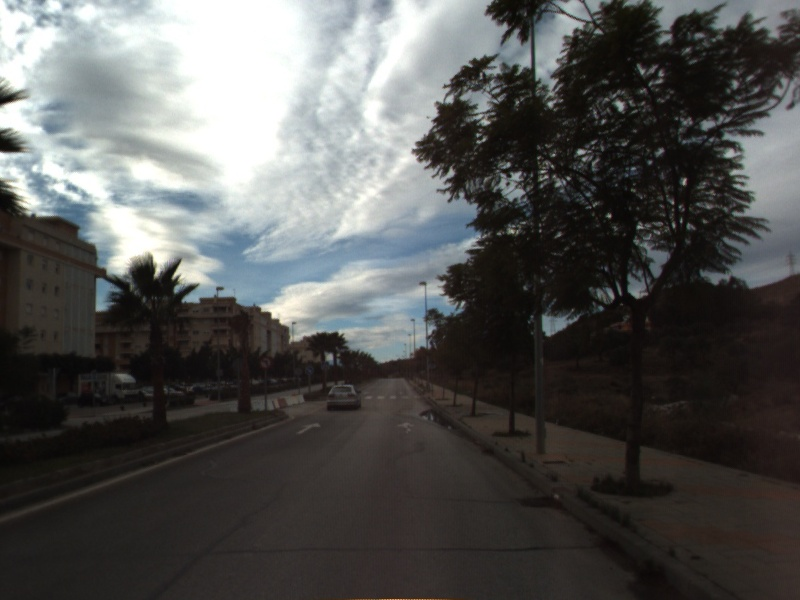STRAIGHT: (294, 421, 323, 436), (396, 420, 417, 436)
